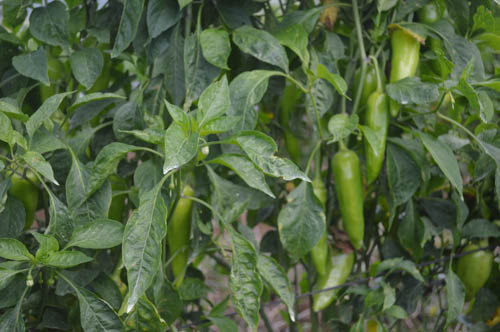ChiliPepper: (331, 151, 367, 245), (382, 31, 418, 117), (307, 252, 353, 313), (299, 185, 327, 270), (360, 88, 387, 176), (169, 188, 194, 269), (461, 248, 493, 299), (356, 62, 384, 108)
